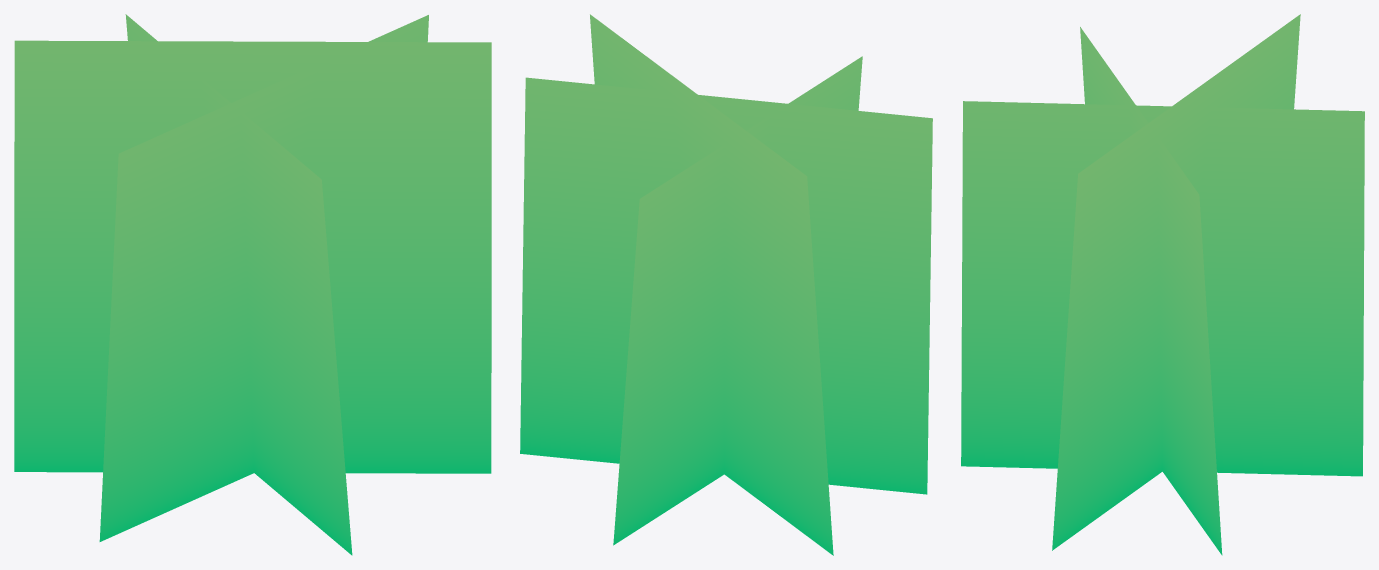
File: Grass_0.4m_A_02.fbx
3 views of the same model, side by side, from view 1: azimuth 30°, elevation 25°; view 2: azimuth 150°, elevation 25°; view 3: azimuth 270°, elevation 25° (orthographic). The views are drawn at different scales.
Parts seen in each view (by area): view 1: Grass_0.4m_A_02; view 2: Grass_0.4m_A_02; view 3: Grass_0.4m_A_02.
Part boxes in pixels (x1,y1,x2,y2): Grass_0.4m_A_02: (14, 14, 491, 555); Grass_0.4m_A_02: (520, 14, 932, 555); Grass_0.4m_A_02: (961, 14, 1364, 555).
Size of the model in its own units: 0.3664 by 0.3827 by 0.365.
